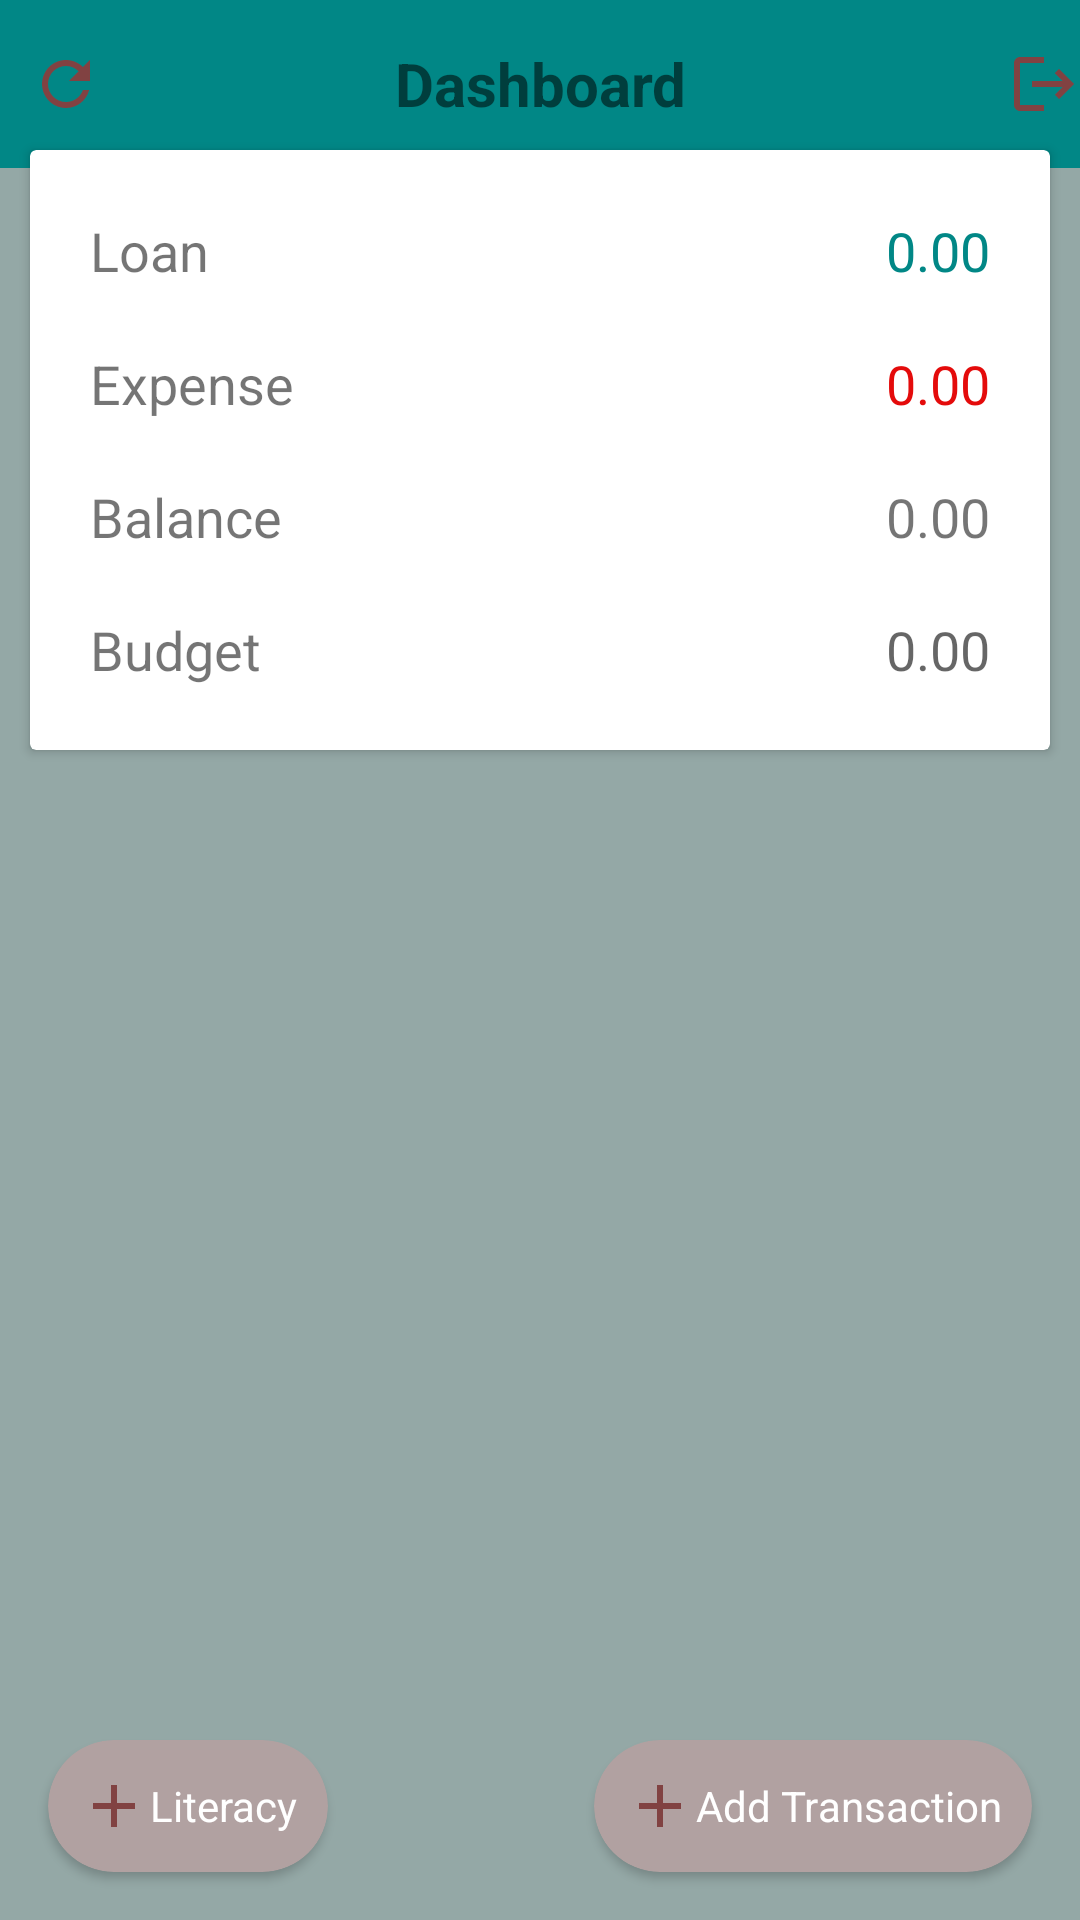

Icons on this 1080×1920 Android screen, each with the point to tap as point (x, y):
refresh: point (66, 84)
